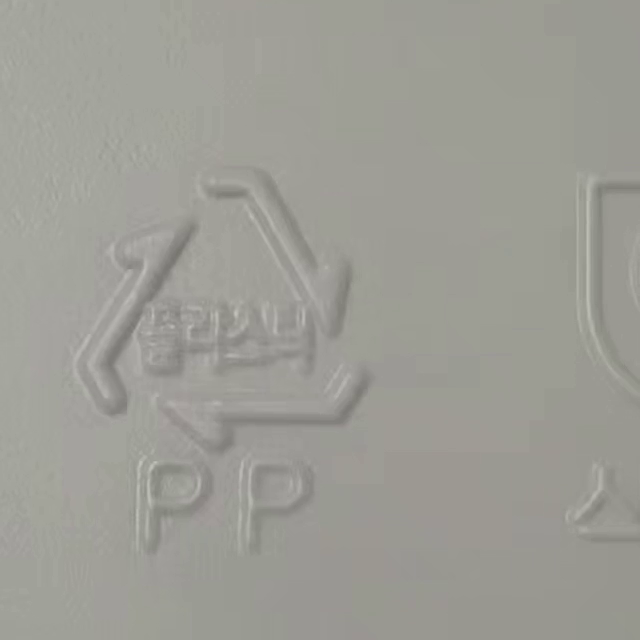Plastic: (74, 169, 377, 455)
